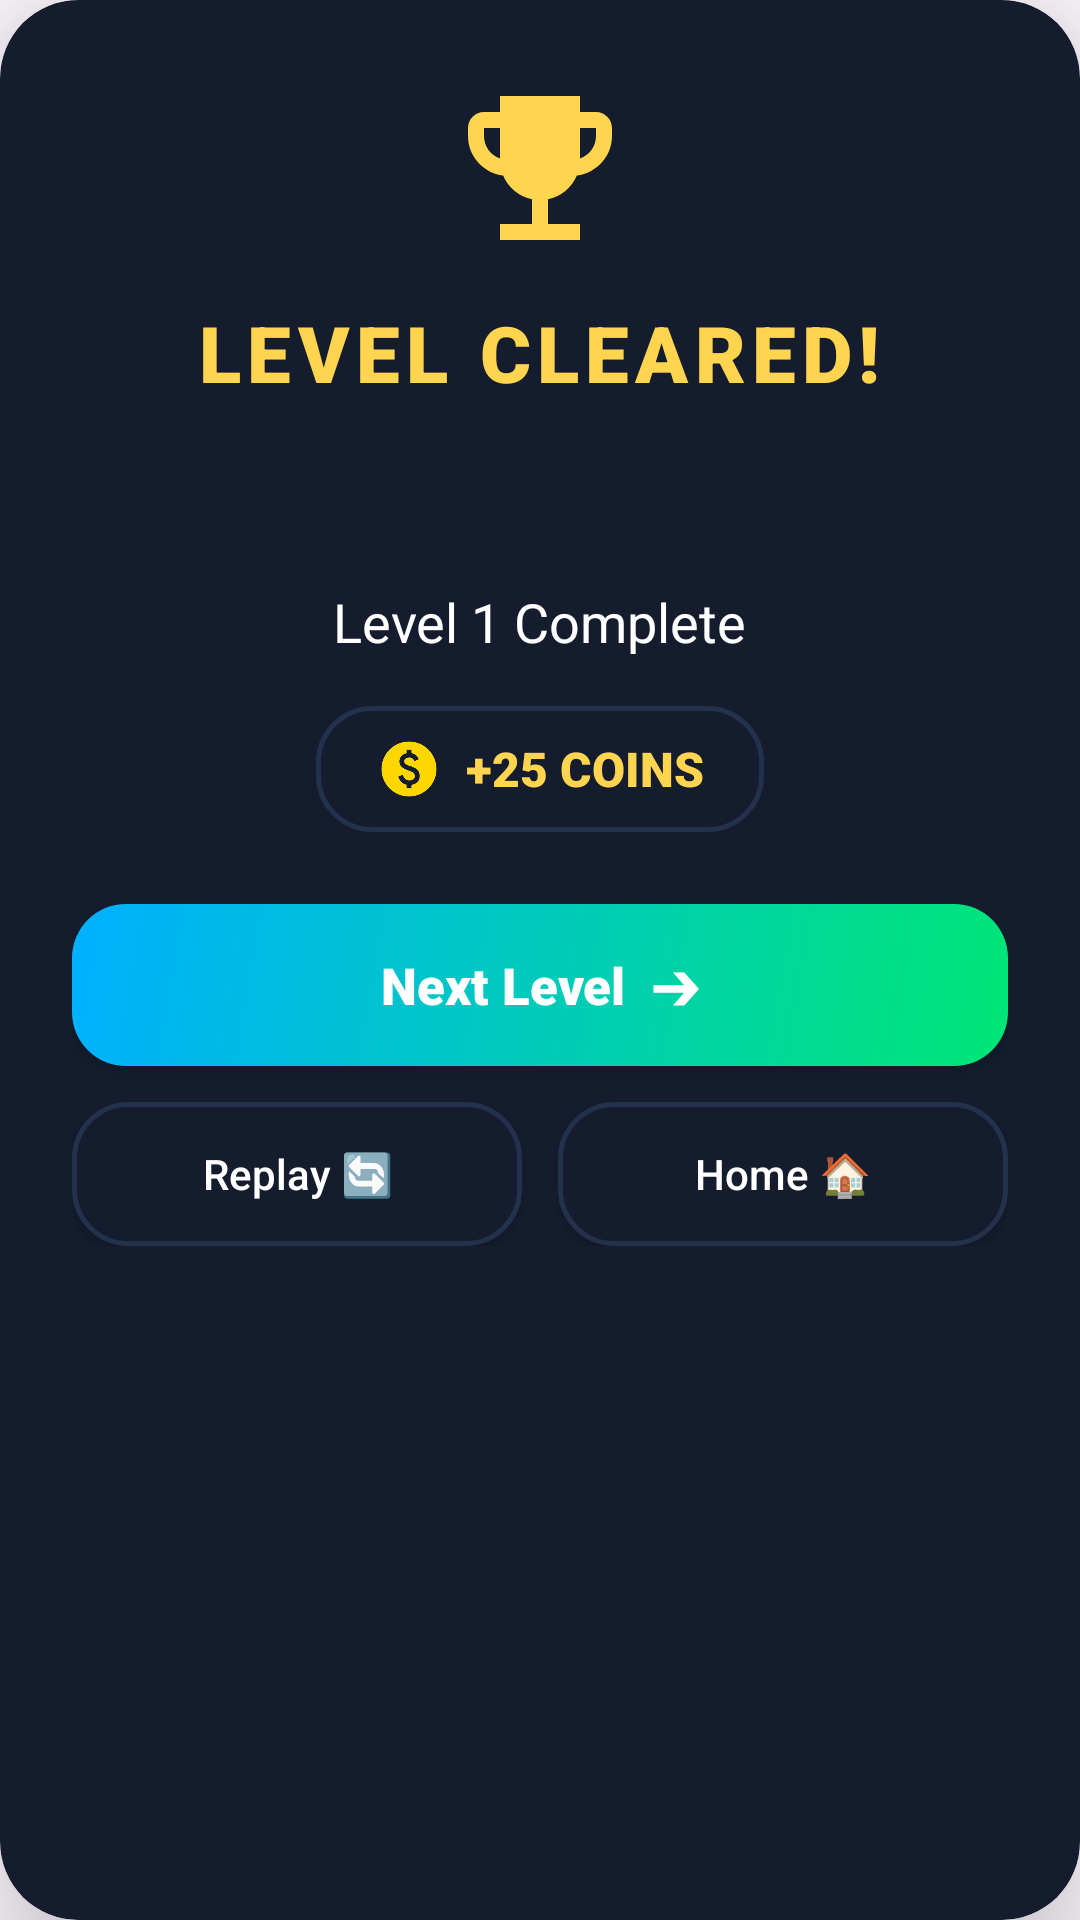

Icons on this 1080w x 1920h Android screen, each with its box as (x1, y1, x2, y2):
trophy: (468, 96, 612, 240)
